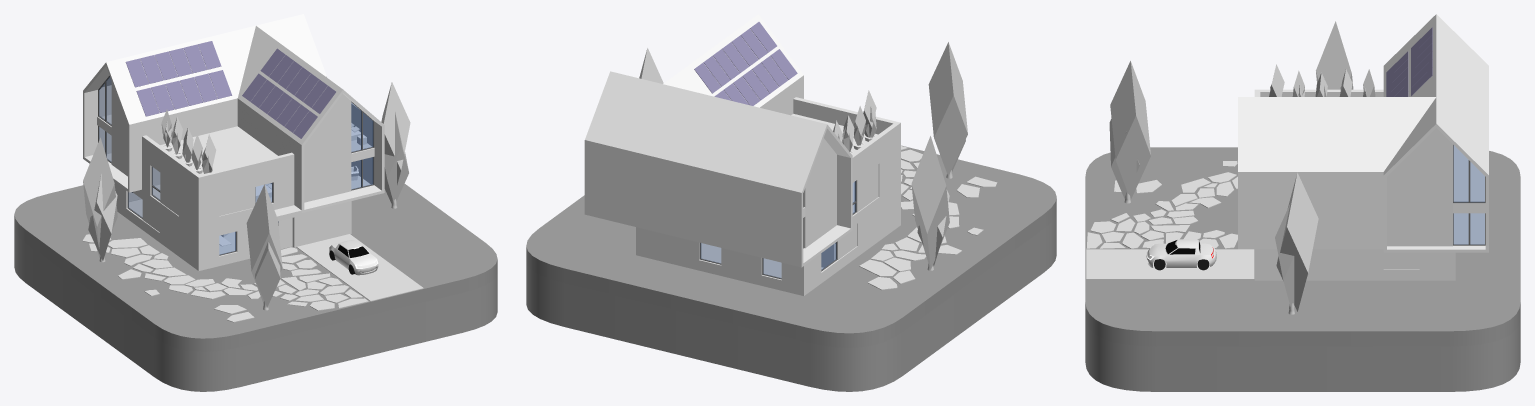
Rendered from solar-house.glb.
The picture shows the model from 3 angles, left to right: view 1: azimuth 30°, elevation 25°; view 2: azimuth 150°, elevation 25°; view 3: azimuth 270°, elevation 25°; orthographic projection. The views are drawn at different scales.
Parts seen in each view (by area): view 1: grass, ground, dark_walls, white_walls, driveway, trees, solar_panels, wood_siding, window_glass, window_frames, car, floors (+1 smaller); view 2: dark_walls, grass, ground, white_walls, trees, solar_panels, driveway, wood_siding, window_glass, floors, window_frames; view 3: grass, dark_walls, ground, trees, driveway, wood_siding, white_walls, floors, window_glass, solar_panels, car, window_frames.
Boxes of the visible parts, x1,y1,x2,y2 form: grass: [14, 183, 497, 351]; ground: [14, 228, 497, 391]; dark_walls: [83, 14, 384, 212]; white_walls: [99, 77, 372, 270]; driveway: [82, 234, 423, 322]; trees: [83, 82, 410, 310]; solar_panels: [125, 41, 335, 138]; wood_siding: [111, 81, 351, 231]; window_glass: [99, 77, 372, 254]; window_frames: [98, 76, 374, 255]; car: [329, 240, 378, 275]; floors: [102, 114, 371, 254]; dark_walls: [584, 14, 875, 267]; grass: [526, 145, 1056, 347]; ground: [526, 212, 1056, 391]; white_walls: [636, 97, 900, 295]; trees: [639, 42, 967, 270]; solar_panels: [694, 22, 797, 105]; driveway: [859, 146, 997, 289]; wood_siding: [805, 138, 878, 259]; window_glass: [701, 181, 855, 277]; floors: [701, 182, 854, 277]; window_frames: [699, 180, 856, 279]; grass: [1085, 147, 1520, 346]; dark_walls: [1238, 14, 1488, 252]; ground: [1085, 318, 1520, 391]; trees: [1109, 21, 1375, 314]; driveway: [1086, 161, 1254, 279]; wood_siding: [1387, 128, 1452, 246]; white_walls: [1254, 89, 1455, 280]; floors: [1453, 145, 1484, 244]; window_glass: [1454, 146, 1484, 244]; solar_panels: [1386, 27, 1432, 96]; car: [1146, 239, 1216, 267]; window_frames: [1453, 145, 1485, 245].
Bounding box in the file's own units: 26 × 15.51 × 26.
